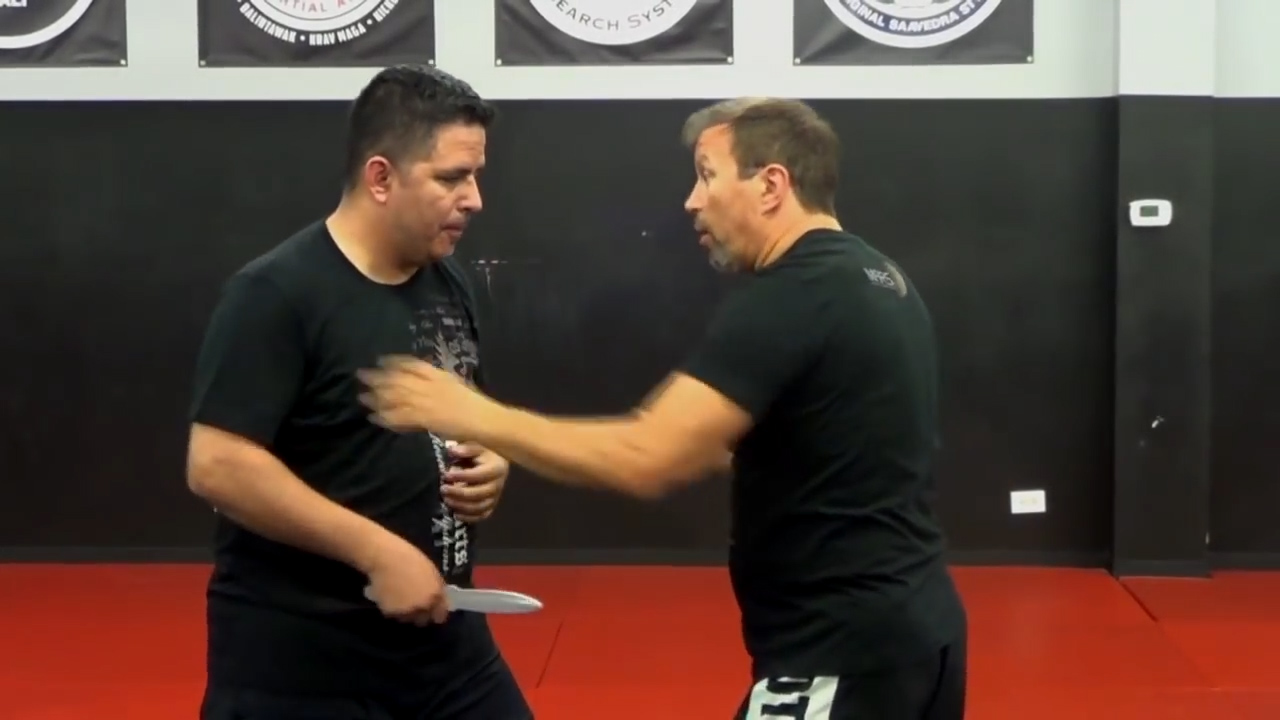knife: (354, 561, 560, 627)
